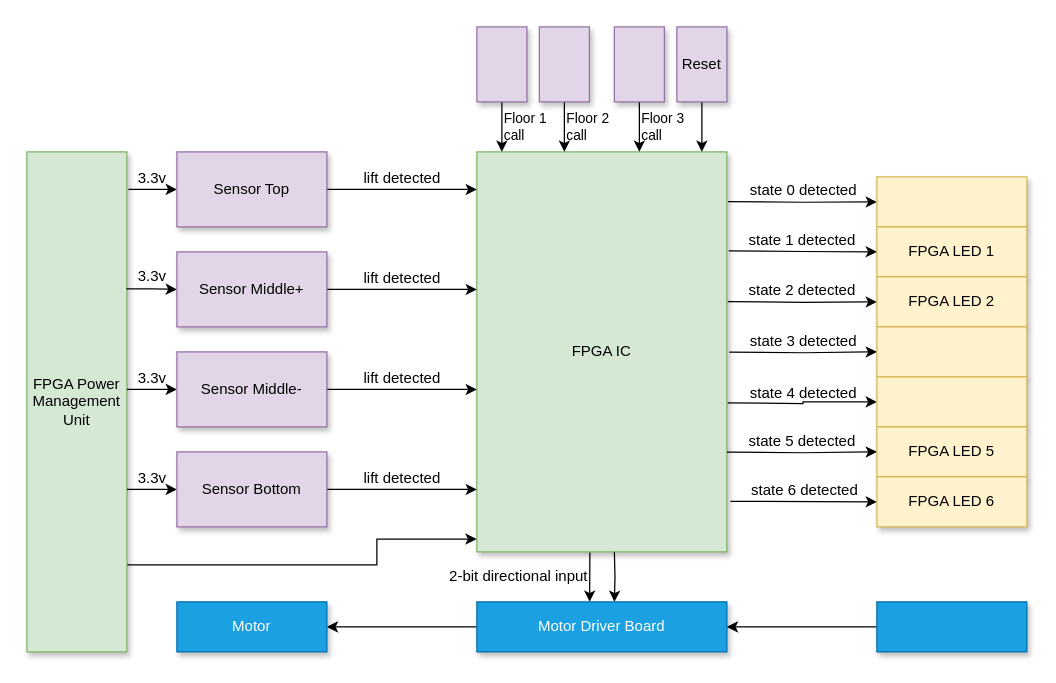
This 1056x683 diagram has some shape labels left out. Each missing label, with the centre of its shape:
"12 volt external supply" goes at pixel 952 628.
"FPGA LED 0" goes at pixel 952 203.
"FPGA LED 3" goes at pixel 952 353.
"FPGA LED 4" goes at pixel 952 403.
"Push Button 1" goes at pixel 502 66.
"Push Button 2" goes at pixel 565 66.
"Push Button 3" goes at pixel 640 66.
